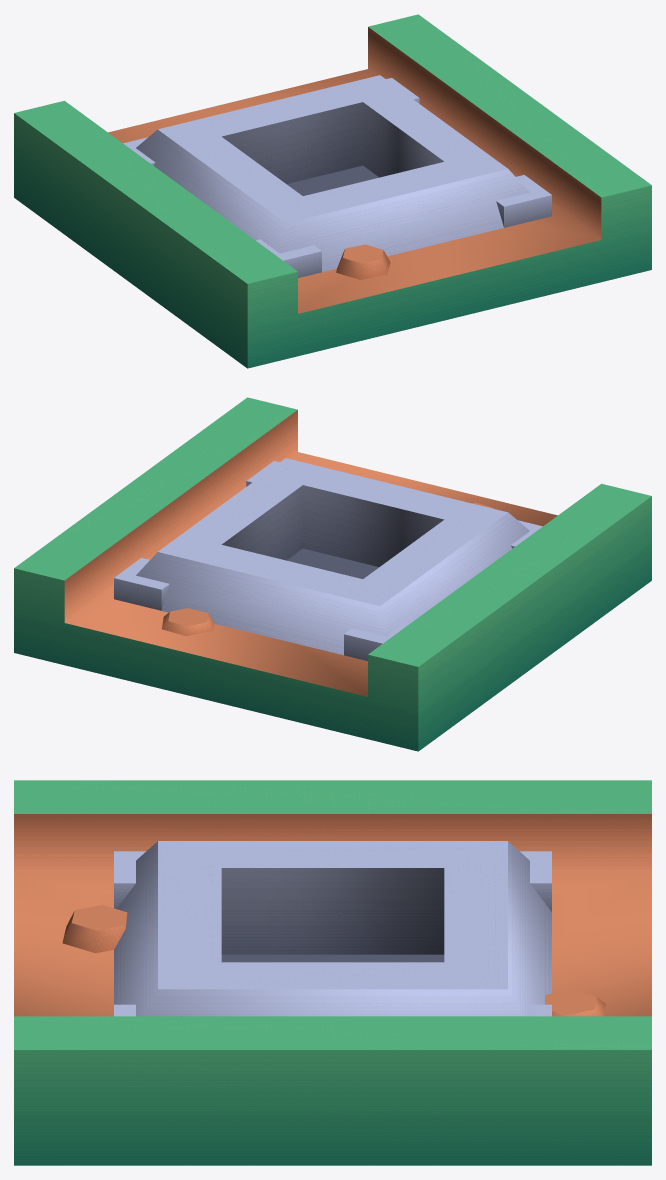
The model's file is tile-spawn.glb.
The picture shows the model from 3 angles, top to bottom: view 1: azimuth 30°, elevation 25°; view 2: azimuth 150°, elevation 25°; view 3: azimuth 270°, elevation 25°; orthographic projection. The views are drawn at different scales.
Visible parts, largest first — view 1: tile-spawn; view 2: tile-spawn; view 3: tile-spawn.
Boxes of the visible parts, x1,y1,x2,y2 form: tile-spawn: (14,14,651,368); tile-spawn: (14,397,651,751); tile-spawn: (14,780,651,1165).
Bounding box in the file's own units: 1 × 0.2 × 1.
1 material, 1 textured.
